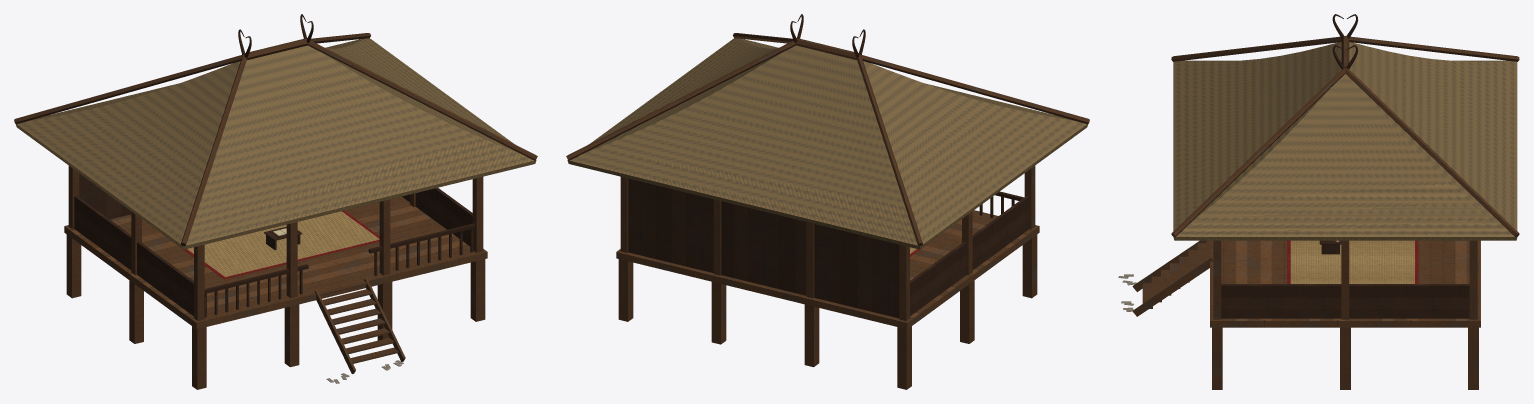
Rendered from dermaga4.glb.
The picture shows the model from 3 angles, left to right: view 1: azimuth 30°, elevation 25°; view 2: azimuth 150°, elevation 25°; view 3: azimuth 270°, elevation 25°; orthographic projection. The views are drawn at different scales.
Visible parts, largest first — view 1: balai_atap, d4_kayu_papan, d4_kayu_balok, d4_kayu_tua, d4_tikar_anyam, d4_tikar_tepi; view 2: balai_atap, d4_kayu_tua, d4_kayu_balok, d4_kayu_papan; view 3: balai_atap, d4_kayu_tua, d4_kayu_papan, d4_kayu_balok, d4_tikar_anyam, d4_tikar_tepi.
Part boxes in pixels (bbox=[...]): balai_atap: bbox=[14, 14, 537, 249]; d4_kayu_papan: bbox=[64, 196, 487, 329]; d4_kayu_balok: bbox=[66, 166, 485, 389]; d4_kayu_tua: bbox=[74, 173, 475, 317]; d4_tikar_anyam: bbox=[187, 211, 379, 276]; d4_tikar_tepi: bbox=[168, 210, 379, 279]; balai_atap: bbox=[566, 14, 1089, 249]; d4_kayu_tua: bbox=[628, 178, 1029, 318]; d4_kayu_balok: bbox=[618, 166, 1037, 389]; d4_kayu_papan: bbox=[616, 210, 1039, 329]; balai_atap: bbox=[1171, 14, 1519, 240]; d4_kayu_tua: bbox=[1221, 240, 1469, 318]; d4_kayu_papan: bbox=[1210, 240, 1480, 327]; d4_kayu_balok: bbox=[1132, 240, 1478, 389]; d4_tikar_anyam: bbox=[1290, 240, 1414, 283]; d4_tikar_tepi: bbox=[1287, 240, 1418, 283].
Size of the model in its own units: 11.51 by 8.69 by 10.96.
15 materials, 11 textured.
